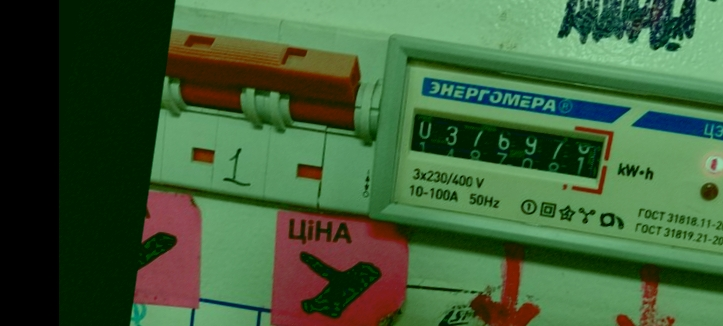0: (418, 117, 436, 141)
1: (575, 154, 587, 177)
3: (446, 123, 461, 146)
6: (497, 127, 515, 152)
7: (471, 124, 489, 149), (551, 135, 568, 160)
9: (524, 132, 541, 156)
screen: (398, 98, 620, 199)
